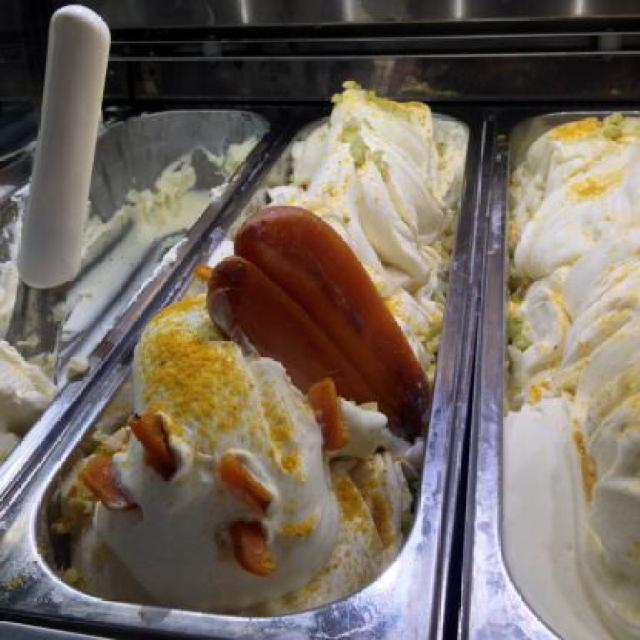Ice cream: (50, 74, 470, 616), (494, 119, 638, 638), (0, 338, 86, 468)
